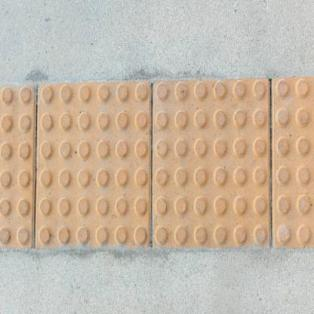Podoctatil: (1, 76, 312, 246)
